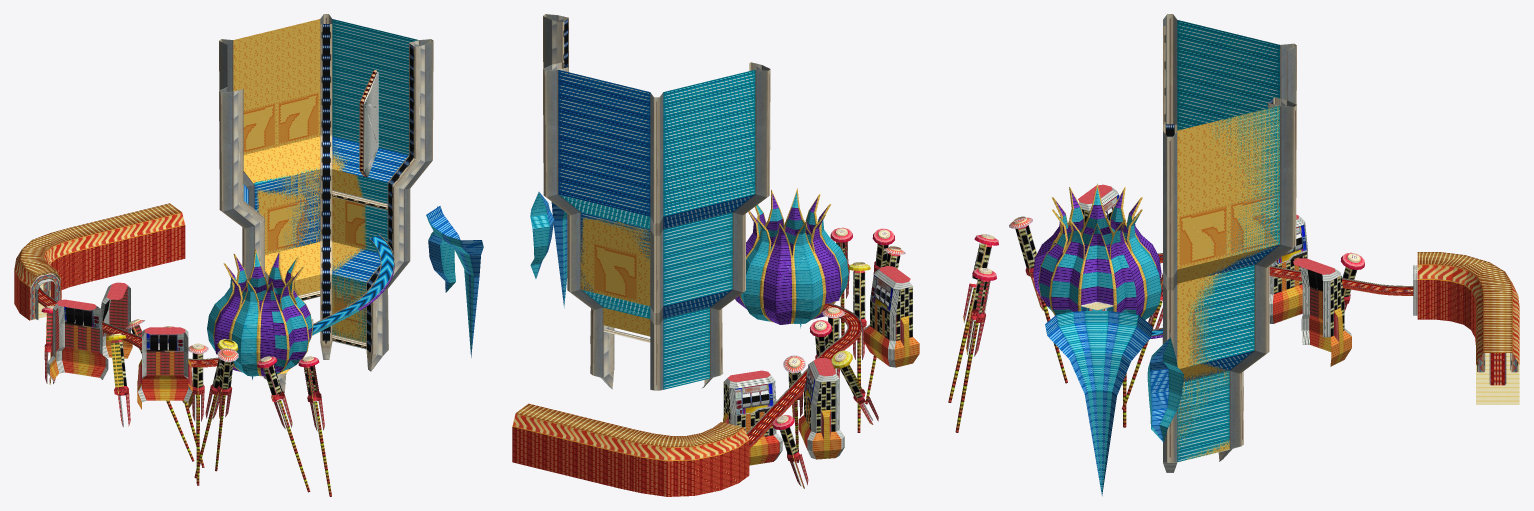
File: Casino_course2.obj
3 renders of one model, left to right at view 1: azimuth 30°, elevation 25°; view 2: azimuth 150°, elevation 25°; view 3: azimuth 270°, elevation 25°, orthographic. The views are drawn at different scales.
Visible parts, largest first — view 1: obj2, obj1, obj3; view 2: obj2, obj1, obj3; view 3: obj2, obj1, obj3.
Part boxes in pixels (left/top/right/bottom): obj2: left=14, top=14, right=483, bottom=432; obj1: left=46, top=235, right=393, bottom=496; obj3: left=38, top=288, right=218, bottom=364; obj2: left=512, top=14, right=919, bottom=496; obj1: left=723, top=242, right=912, bottom=462; obj3: left=747, top=303, right=861, bottom=445; obj2: left=963, top=14, right=1519, bottom=496; obj1: left=948, top=209, right=1357, bottom=432; obj3: left=1090, top=254, right=1505, bottom=385.
Size of the model in its own units: 6534 by 6619 by 7847.
